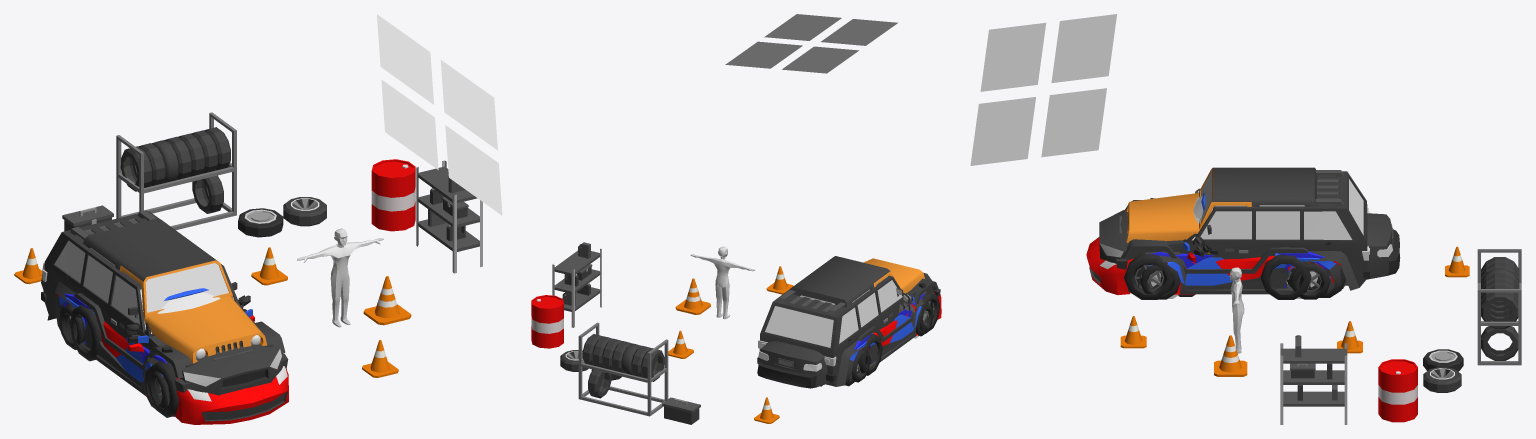
File: fenyr.fbx
The picture shows the model from 3 angles, left to right: view 1: azimuth 30°, elevation 25°; view 2: azimuth 150°, elevation 25°; view 3: azimuth 270°, elevation 25°; orthographic projection. The views are drawn at different scales.
Visible parts, largest first — view 1: jeep, Plane, van, italia, coupe, rack, red_barrel, rack.001, man_scale, chiron, wheels.016, big_traffic_cone (+17 smaller); view 2: van, Plane, jeep, police, rack.001, rack, red_barrel, chiron, man_scale, tool_box, big_traffic_cone, Cylinder.008 (+3 smaller); view 3: Plane, van, jeep, rack, chiron, red_barrel, italia, police, coupe, rack.001, wheels.042, wheels.043 (+9 smaller).
Boxes of the visible parts, <box> form: jeep: <box>58,218,288,392</box>; Plane: <box>377,14,502,215</box>; van: <box>41,210,273,405</box>; italia: <box>57,294,288,424</box>; coupe: <box>88,295,283,395</box>; rack: <box>416,160,482,273</box>; red_barrel: <box>371,159,415,231</box>; rack.001: <box>116,112,236,229</box>; man_scale: <box>297,228,383,327</box>; chiron: <box>56,275,246,395</box>; wheels.016: <box>147,361,178,417</box>; big_traffic_cone: <box>363,276,411,325</box>; van: <box>757,275,933,386</box>; Plane: <box>725,14,897,73</box>; jeep: <box>789,256,940,352</box>; police: <box>757,303,904,388</box>; rack.001: <box>578,322,668,416</box>; rack: <box>552,244,601,327</box>; red_barrel: <box>531,295,563,348</box>; chiron: <box>846,303,921,379</box>; man_scale: <box>690,246,755,319</box>; tool_box: <box>662,397,700,424</box>; big_traffic_cone: <box>675,278,710,314</box>; Cylinder.008: <box>588,369,611,398</box>; Plane: <box>970,14,1116,165</box>; van: <box>1119,170,1369,290</box>; jeep: <box>1116,167,1334,276</box>; rack: <box>1280,343,1347,424</box>; chiron: <box>1141,242,1341,294</box>; red_barrel: <box>1378,359,1417,422</box>; italia: <box>1086,237,1340,295</box>; police: <box>1206,213,1400,279</box>; coupe: <box>1099,196,1289,263</box>; rack.001: <box>1477,249,1521,365</box>; wheels.042: <box>1124,253,1173,299</box>; wheels.043: <box>1260,254,1311,299</box>.
Size of what is drawn, in the model's own units: 806 by 706 by 1083.
